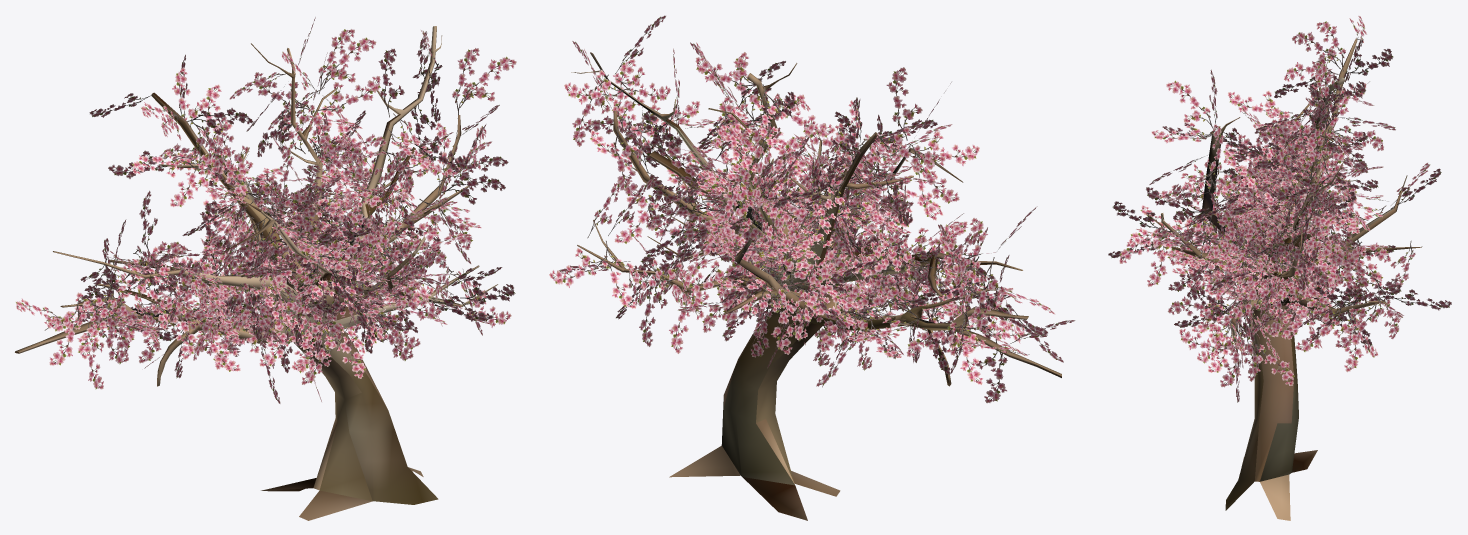
Rendered from CherryBlossom.fbx.
The picture shows the model from 3 angles, left to right: view 1: azimuth 30°, elevation 25°; view 2: azimuth 150°, elevation 25°; view 3: azimuth 270°, elevation 25°; orthographic projection. The views are drawn at different scales.
Visible parts, largest first — view 1: cherry blossom branch transparent.001, Cube; view 2: cherry blossom branch transparent.001, Cube; view 3: cherry blossom branch transparent.001, Cube.
Boxes of the visible parts, x1=… form: cherry blossom branch transparent.001: x1=16, y1=17, x2=516, y2=403; Cube: x1=15, y1=26, x2=497, y2=520; cherry blossom branch transparent.001: x1=549, y1=15, x2=1075, y2=403; Cube: x1=571, y1=52, x2=1061, y2=520; cherry blossom branch transparent.001: x1=1108, y1=15, x2=1451, y2=402; Cube: x1=1146, y1=38, x2=1422, y2=520.
Bounding box in the file's own units: 1217 × 1054 × 805.
